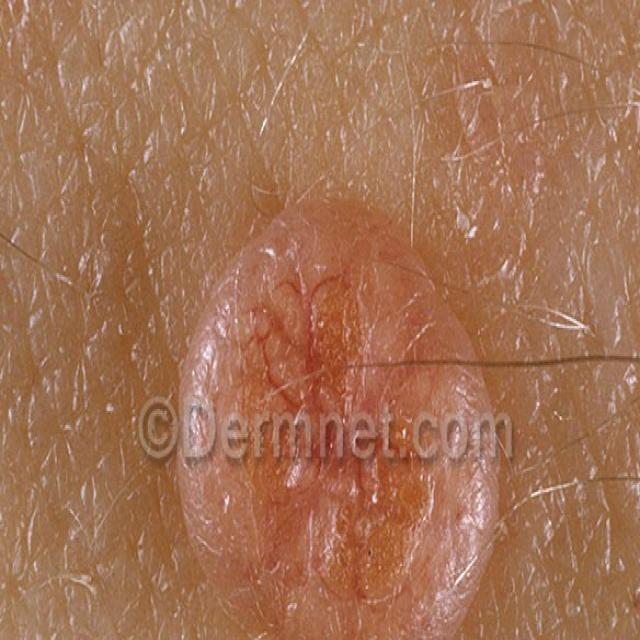Viral Infections: (155, 164, 508, 640)
